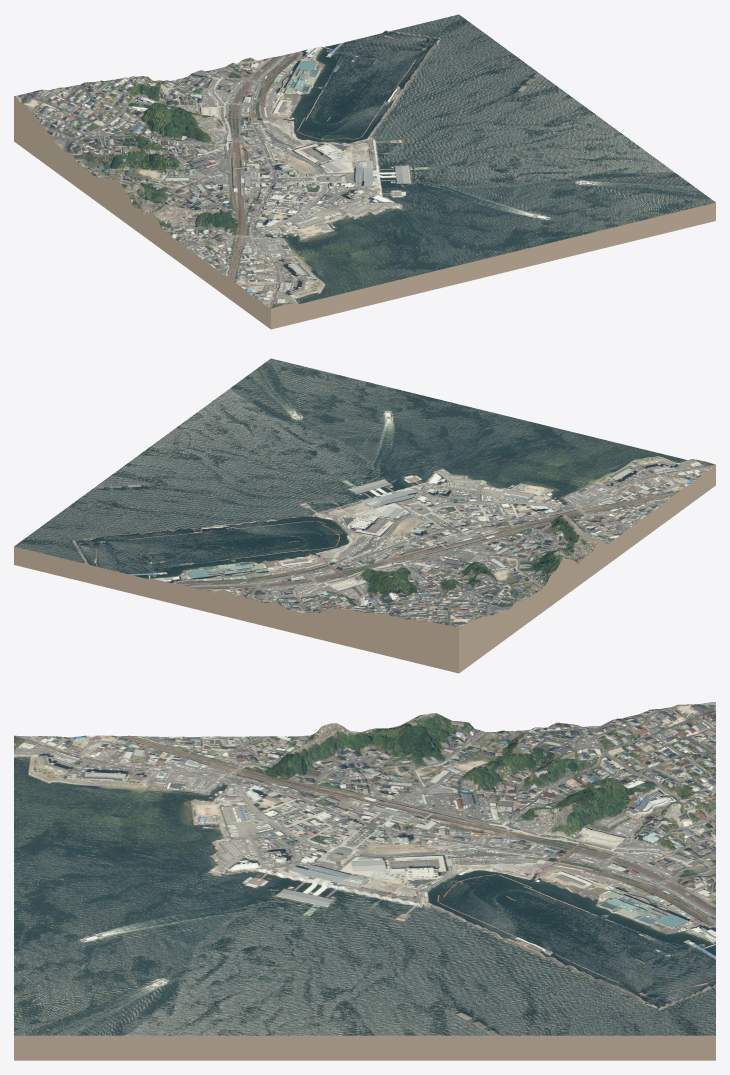
File: facility-039.glb
3 renders of one model, top to bottom at view 1: azimuth 30°, elevation 25°; view 2: azimuth 150°, elevation 25°; view 3: azimuth 270°, elevation 25°, orthographic. The views are drawn at different scales.
Bounding box in the file's own units: 0.6 × 0.0583 × 0.6.
Materials: 17 (16 with a texture image).
